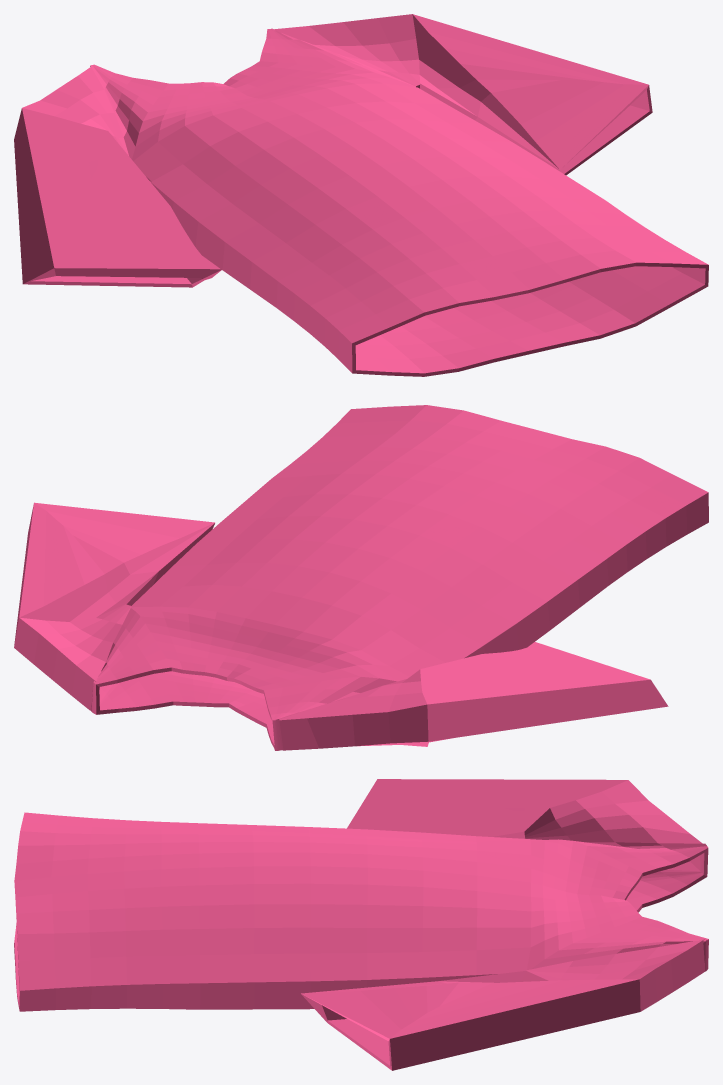
File: Shirt 2.fbx
The picture shows the model from 3 angles, top to bottom: view 1: azimuth 30°, elevation 25°; view 2: azimuth 150°, elevation 25°; view 3: azimuth 270°, elevation 25°; orthographic projection. The views are drawn at different scales.
Parts seen in each view (by area): view 1: Node 0; view 2: Node 0; view 3: Node 0.
Boxes of the visible parts, x1,y1,x2,y2 form: Node 0: [14, 14, 708, 376]; Node 0: [14, 405, 708, 750]; Node 0: [14, 779, 708, 1070].
Size of the model in its own units: 1.02 by 0.152 by 1.06.
